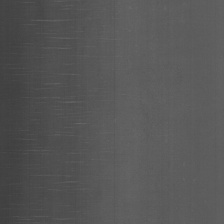waist_folding: (14, 18, 108, 209)
